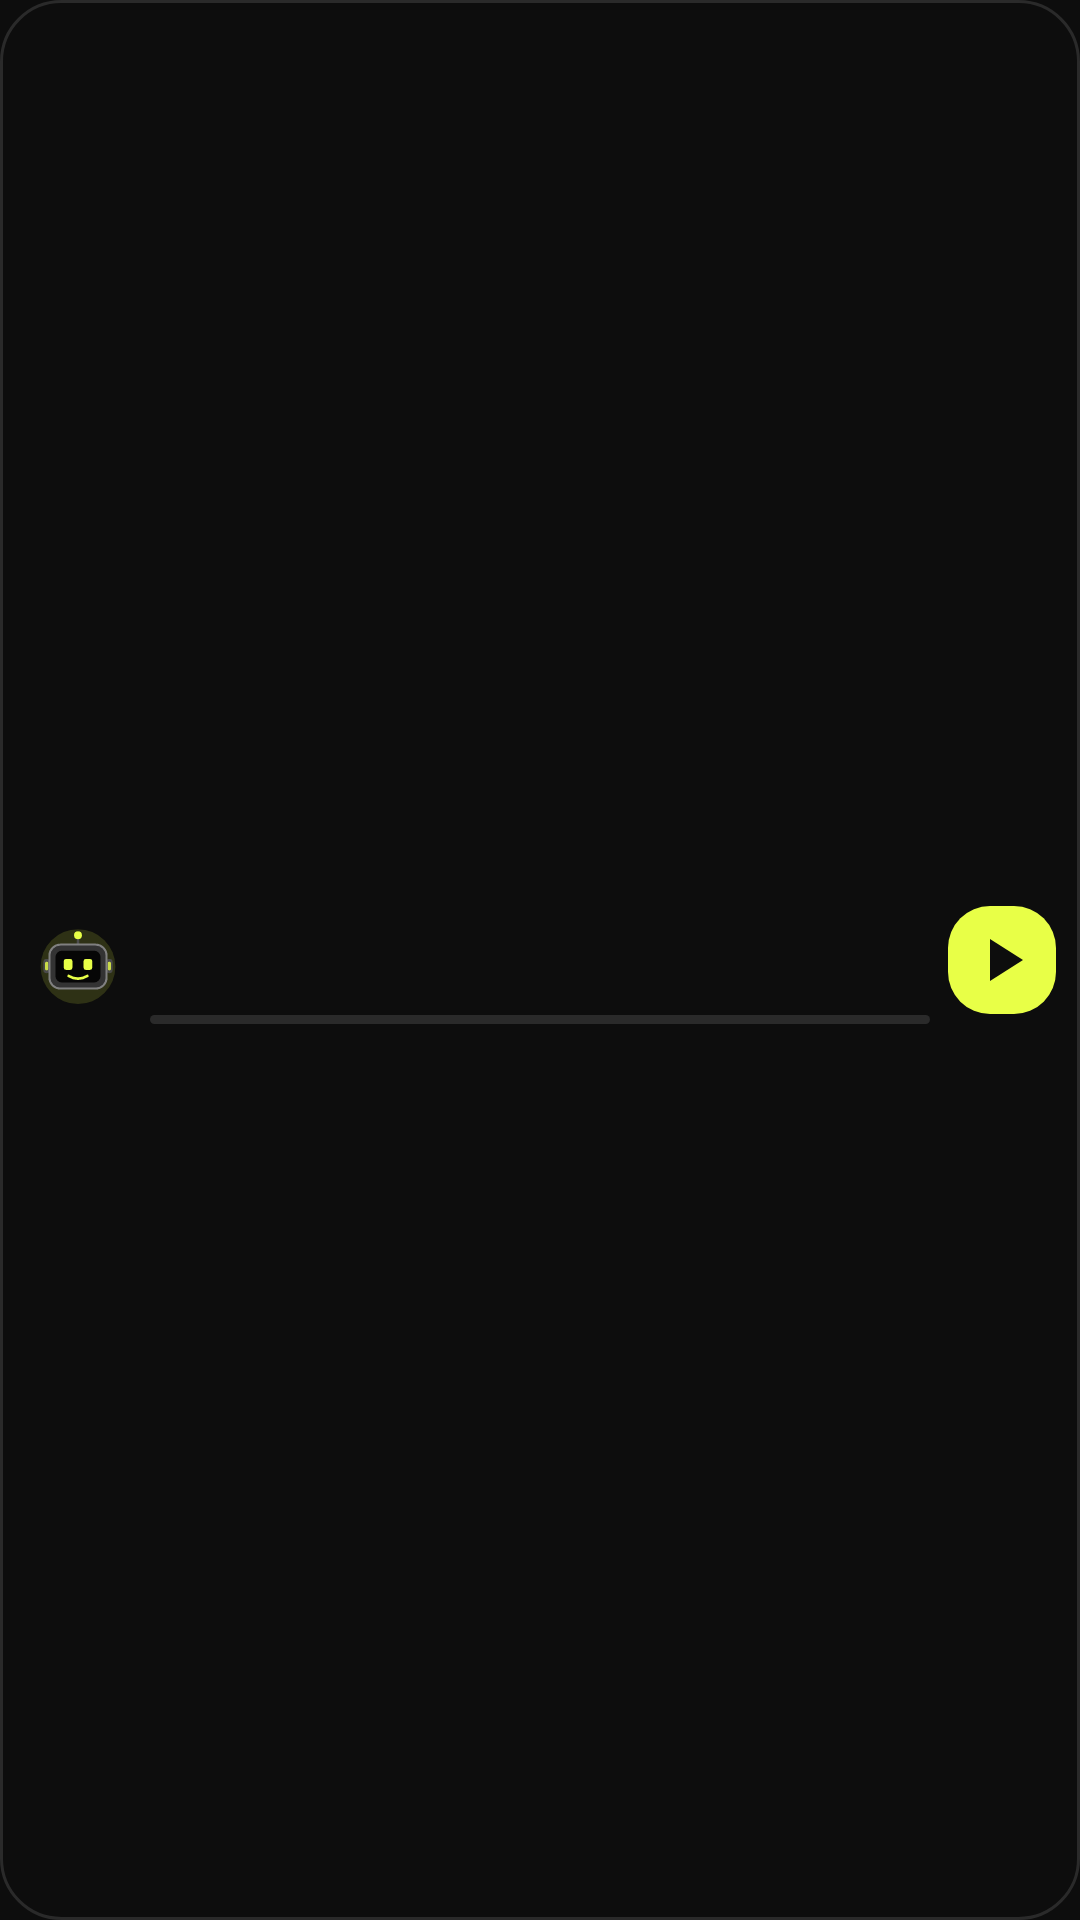

Where to tap for icons on this 1080px x 1920px app screen, as [x,y]:
widget play: [1002,960]
